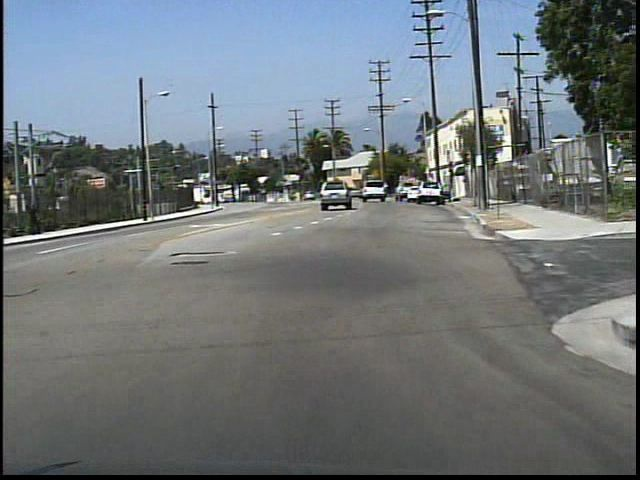person: (29, 200, 46, 238)
